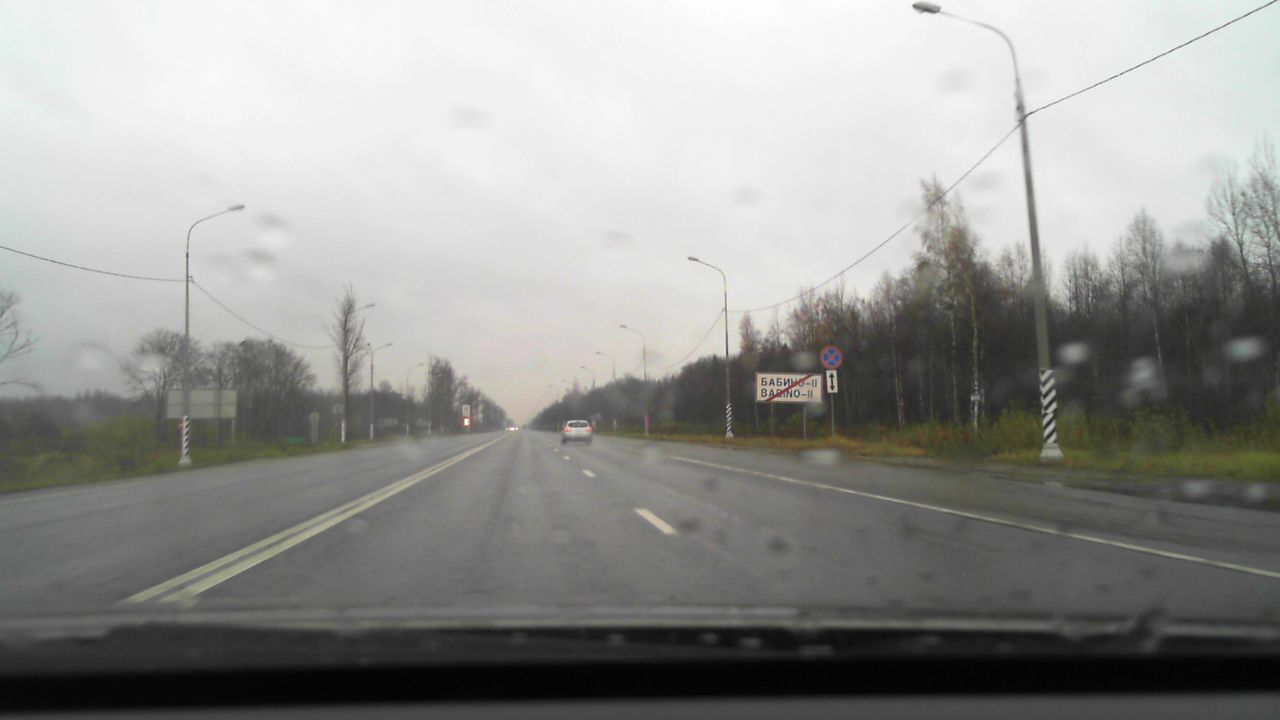No Parking: (819, 345, 843, 368)
